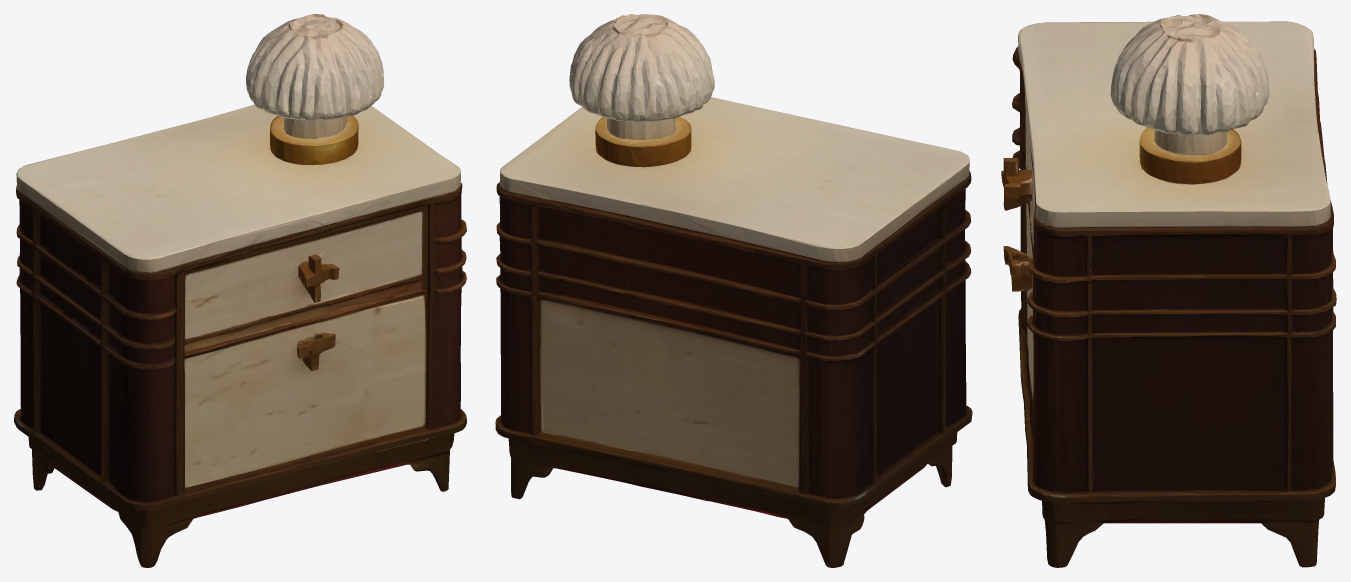
File: nightstand_globe_lamp.glb
3 renders of one model, left to right at view 1: azimuth 30°, elevation 25°; view 2: azimuth 150°, elevation 25°; view 3: azimuth 270°, elevation 25°, orthographic. The views are drawn at different scales.
Visible parts, largest first — view 1: geometry_0; view 2: geometry_0; view 3: geometry_0.
Boxes of the visible parts, bbox=[...] form: geometry_0: bbox=[14, 14, 466, 567]; geometry_0: bbox=[495, 14, 972, 567]; geometry_0: bbox=[1001, 14, 1336, 567].
Size of the model in its own units: 0.8333 by 1 by 0.6061.
1 material, 1 textured.
